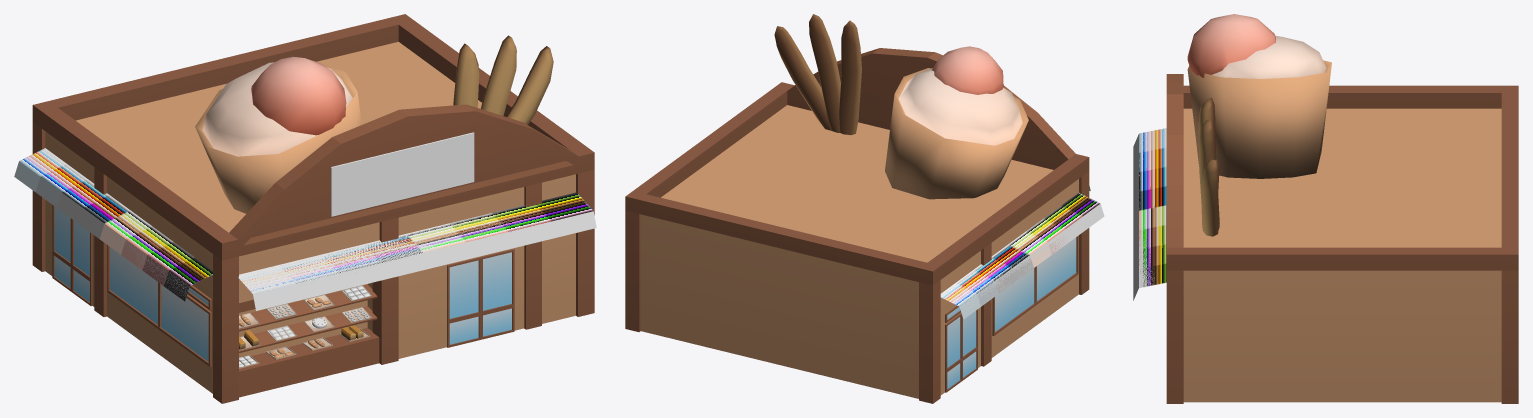
Rendered from TokoRoti.fbx.
3 renders of one model, left to right at view 1: azimuth 30°, elevation 25°; view 2: azimuth 150°, elevation 25°; view 3: azimuth 270°, elevation 25°, orthographic. The views are drawn at different scales.
Parts seen in each view (by area): view 1: TokoRoti_LOD0, ShapeAtas-TokoRoti_LOD0, Tarub-TokoRoti_LOD0.001, Panel-TokoRoti_LOD0, RotiPanjang-TokoRoti_LOD0, Nampan-TokoRoti_LOD0; view 2: TokoRoti_LOD0, ShapeAtas-TokoRoti_LOD0, RotiPanjang-TokoRoti_LOD0, Tarub-TokoRoti_LOD0.001; view 3: TokoRoti_LOD0, ShapeAtas-TokoRoti_LOD0, RotiPanjang-TokoRoti_LOD0, Tarub-TokoRoti_LOD0.001.
Part boxes in pixels (bbox=[...]): TokoRoti_LOD0: bbox=[14, 14, 594, 403]; ShapeAtas-TokoRoti_LOD0: bbox=[195, 56, 361, 213]; Tarub-TokoRoti_LOD0.001: bbox=[103, 210, 596, 310]; Panel-TokoRoti_LOD0: bbox=[331, 132, 474, 216]; RotiPanjang-TokoRoti_LOD0: bbox=[453, 35, 553, 124]; Nampan-TokoRoti_LOD0: bbox=[239, 285, 371, 368]; TokoRoti_LOD0: bbox=[625, 48, 1100, 403]; ShapeAtas-TokoRoti_LOD0: bbox=[885, 46, 1028, 199]; RotiPanjang-TokoRoti_LOD0: bbox=[774, 14, 861, 135]; Tarub-TokoRoti_LOD0.001: bbox=[940, 203, 1104, 311]; TokoRoti_LOD0: bbox=[1139, 74, 1518, 403]; ShapeAtas-TokoRoti_LOD0: bbox=[1187, 14, 1331, 178]; RotiPanjang-TokoRoti_LOD0: bbox=[1198, 97, 1219, 236]; Tarub-TokoRoti_LOD0.001: bbox=[1133, 133, 1154, 300].
Size of what is drawn, in the model's own units: 1269 by 869 by 1138.
